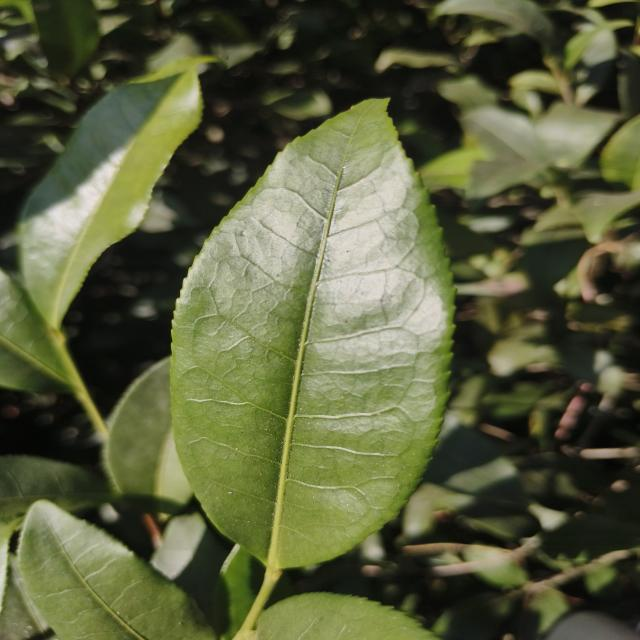Leaf: (171, 99, 452, 569), (18, 58, 202, 328), (18, 500, 215, 640), (103, 358, 192, 511), (0, 269, 73, 392), (254, 592, 435, 640), (0, 455, 111, 521), (535, 102, 618, 168), (33, 0, 100, 78), (461, 106, 547, 164), (573, 191, 640, 243), (418, 143, 485, 191), (600, 115, 640, 190), (465, 160, 543, 198)
